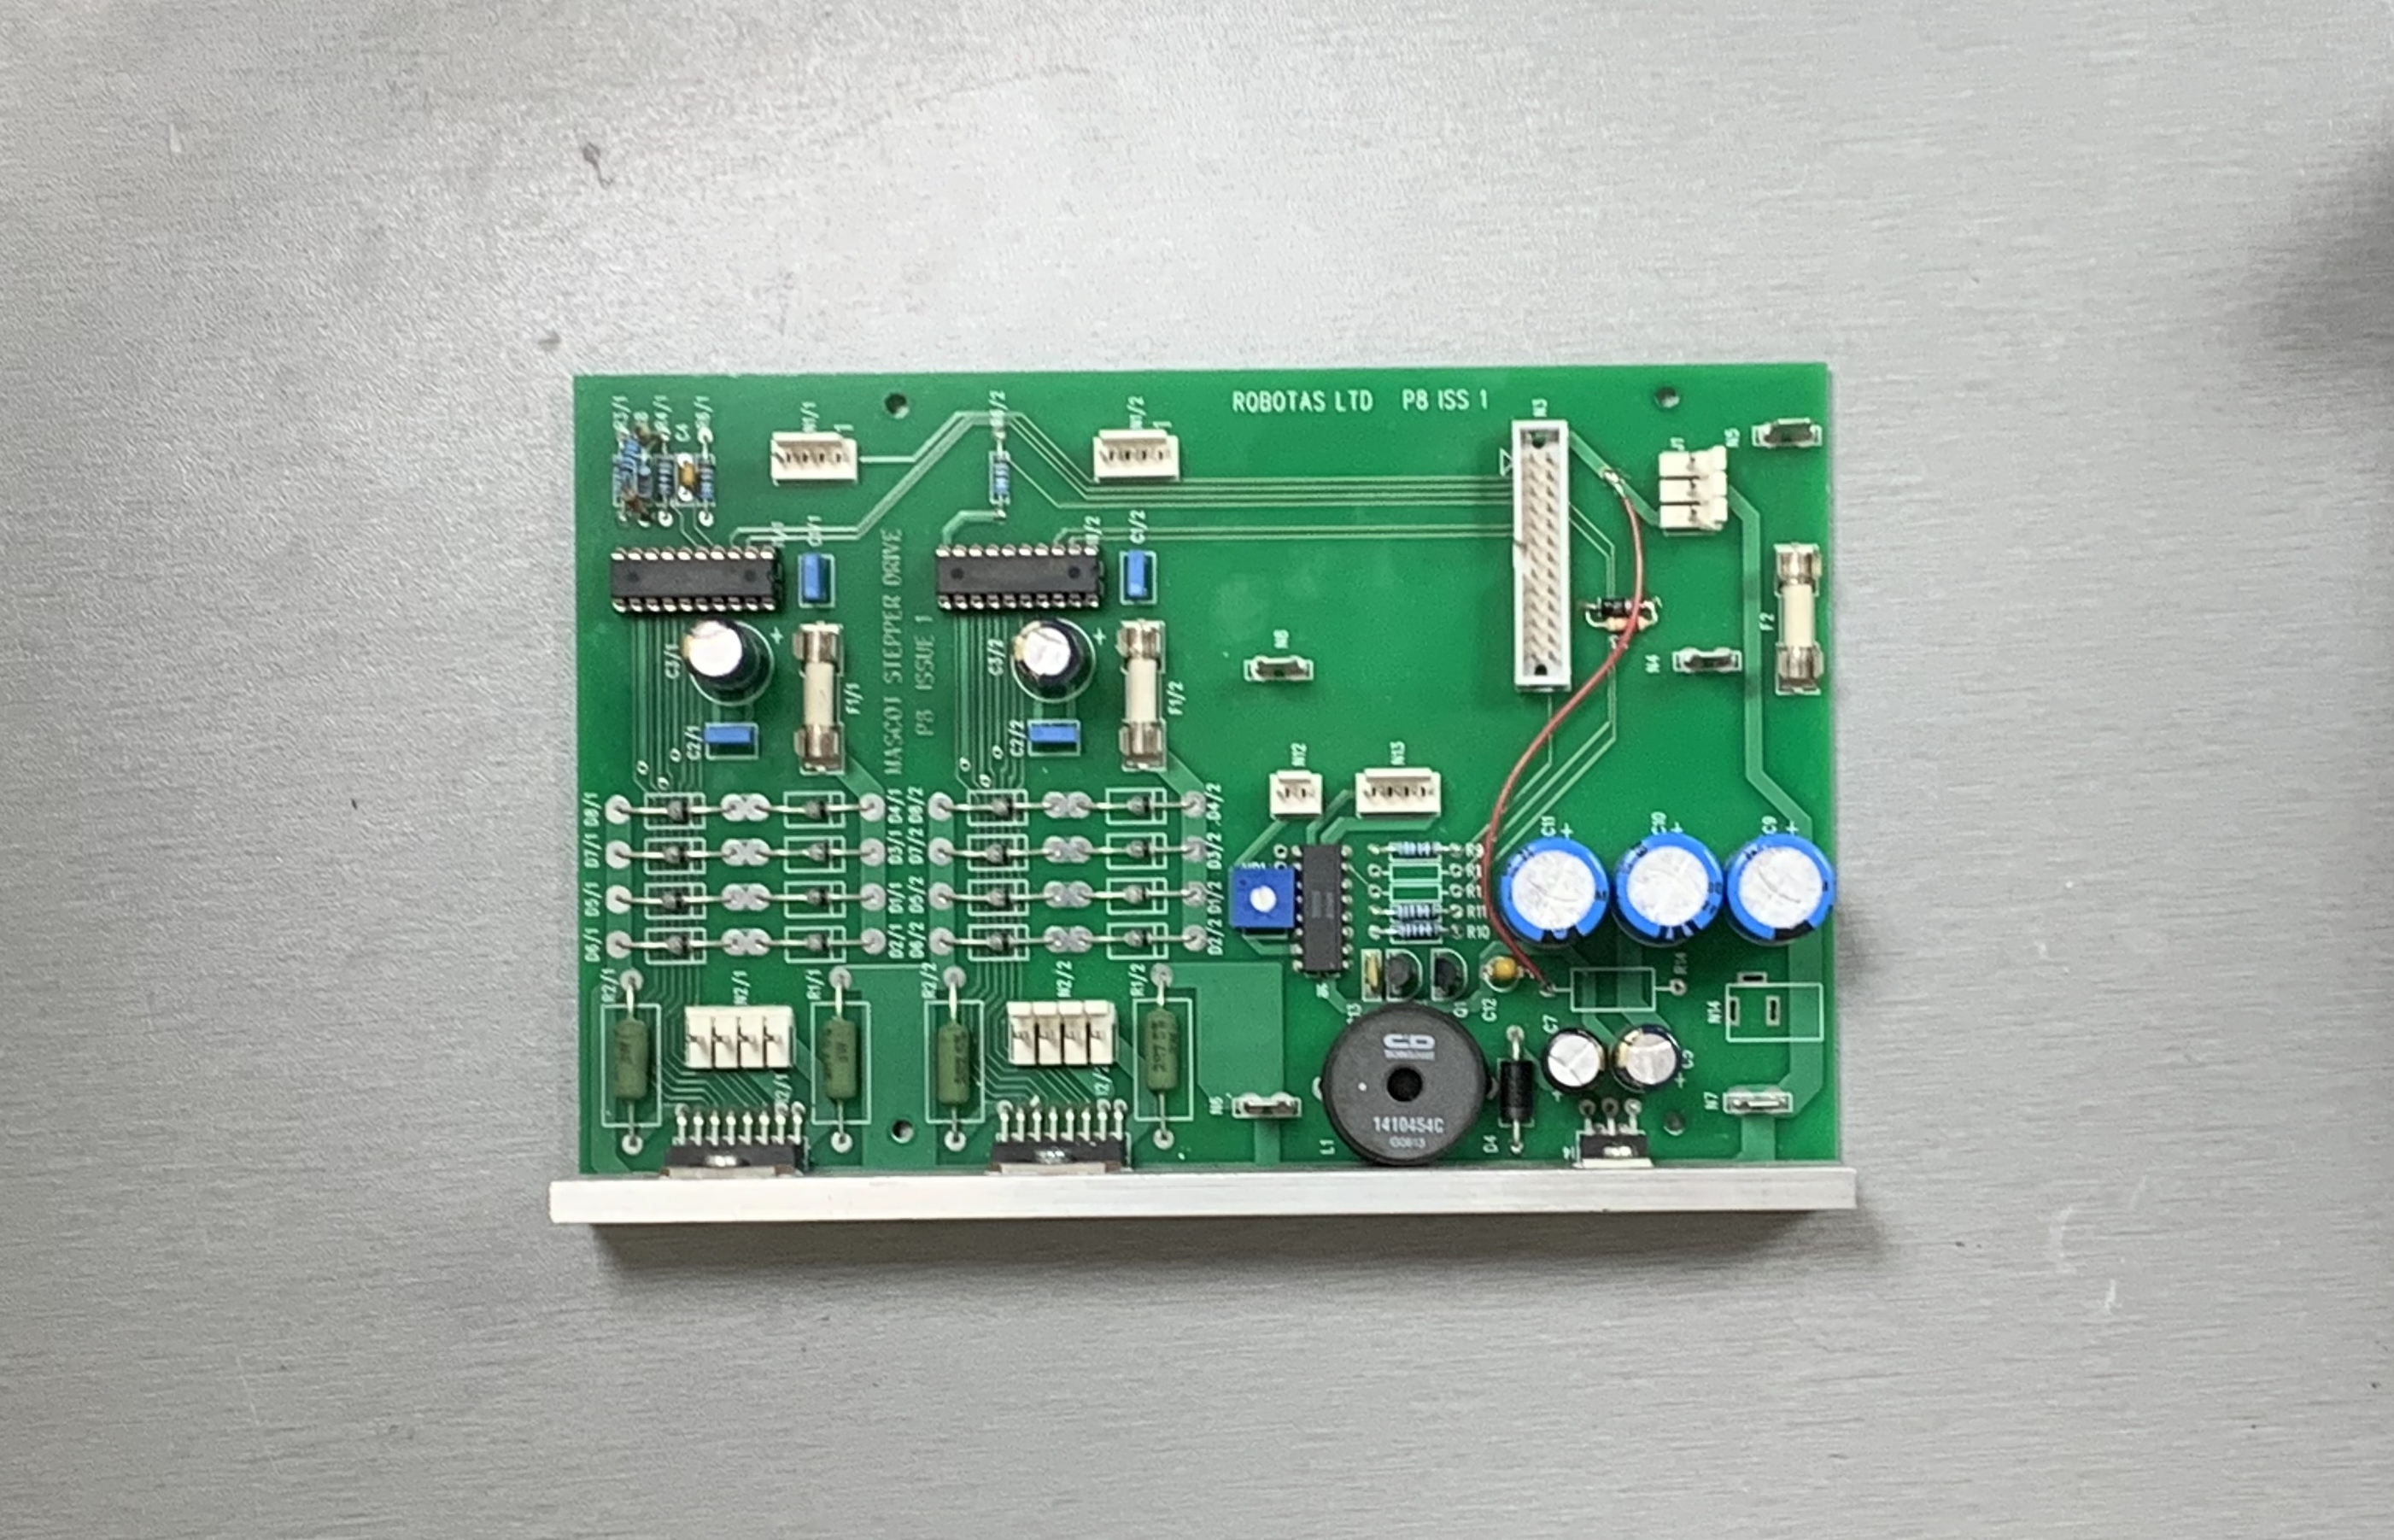Capacitor: (1492, 830, 1612, 951), (1724, 823, 1836, 951), (1612, 830, 1724, 951), (677, 619, 771, 698), (1010, 619, 1089, 703), (1609, 1022, 1687, 1099), (1539, 1024, 1609, 1099)
Diode: (1497, 1053, 1537, 1128), (977, 928, 1019, 957), (1590, 595, 1644, 617), (1117, 882, 1159, 910), (1118, 792, 1159, 820), (1118, 837, 1157, 863), (1118, 926, 1159, 951), (658, 933, 696, 957), (977, 884, 1016, 909), (797, 799, 834, 823), (977, 842, 1014, 867), (799, 886, 834, 910), (654, 888, 691, 910), (803, 842, 838, 865), (984, 795, 1016, 820), (797, 933, 832, 954), (661, 799, 691, 823), (660, 842, 691, 865)
Resistor: (986, 450, 1014, 506), (1391, 919, 1441, 944), (1389, 839, 1443, 862), (1597, 614, 1652, 635), (694, 453, 717, 502), (1391, 903, 1447, 921), (618, 438, 642, 474), (656, 455, 674, 502), (635, 462, 653, 501)
